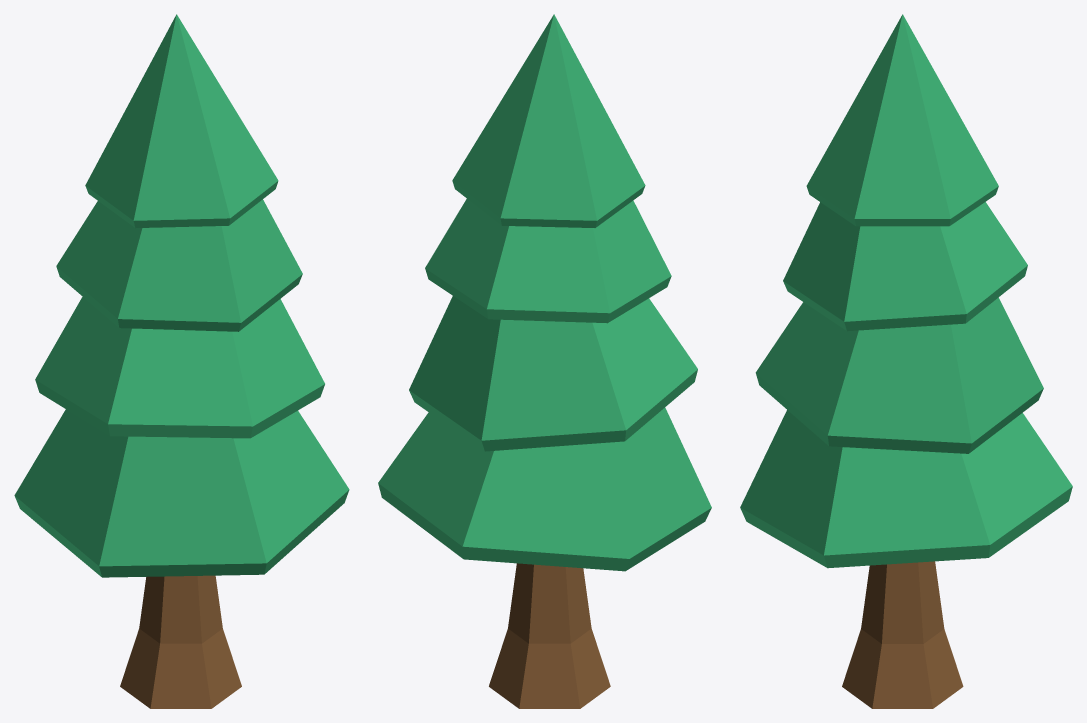
Rendered from tree1.fbx.
The picture shows the model from 3 angles, left to right: view 1: azimuth 30°, elevation 25°; view 2: azimuth 150°, elevation 25°; view 3: azimuth 270°, elevation 25°; orthographic projection.
Parts seen in each view (by area): view 1: tree.001__LOD0; view 2: tree.001__LOD0; view 3: tree.001__LOD0.
Part boxes in pixels (x1=…): tree.001__LOD0: x1=14, y1=14, x2=349, y2=708; tree.001__LOD0: x1=378, y1=14, x2=711, y2=708; tree.001__LOD0: x1=740, y1=14, x2=1072, y2=708.
Size of what is drawn, in the model's own units: 2973 by 7594 by 3416.
